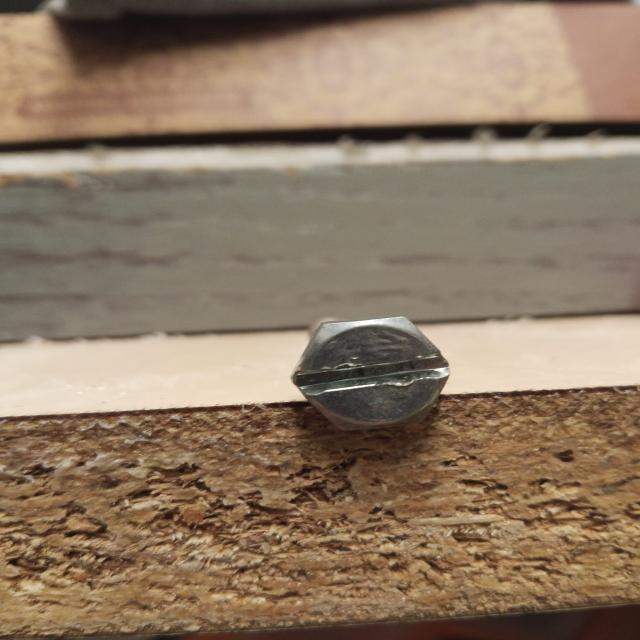duz: (292, 314, 452, 434)
